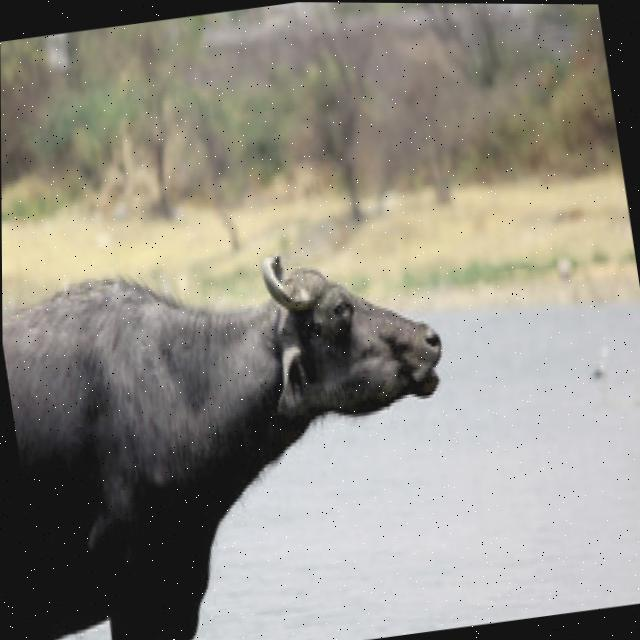Buffalo: (2, 221, 485, 640)
